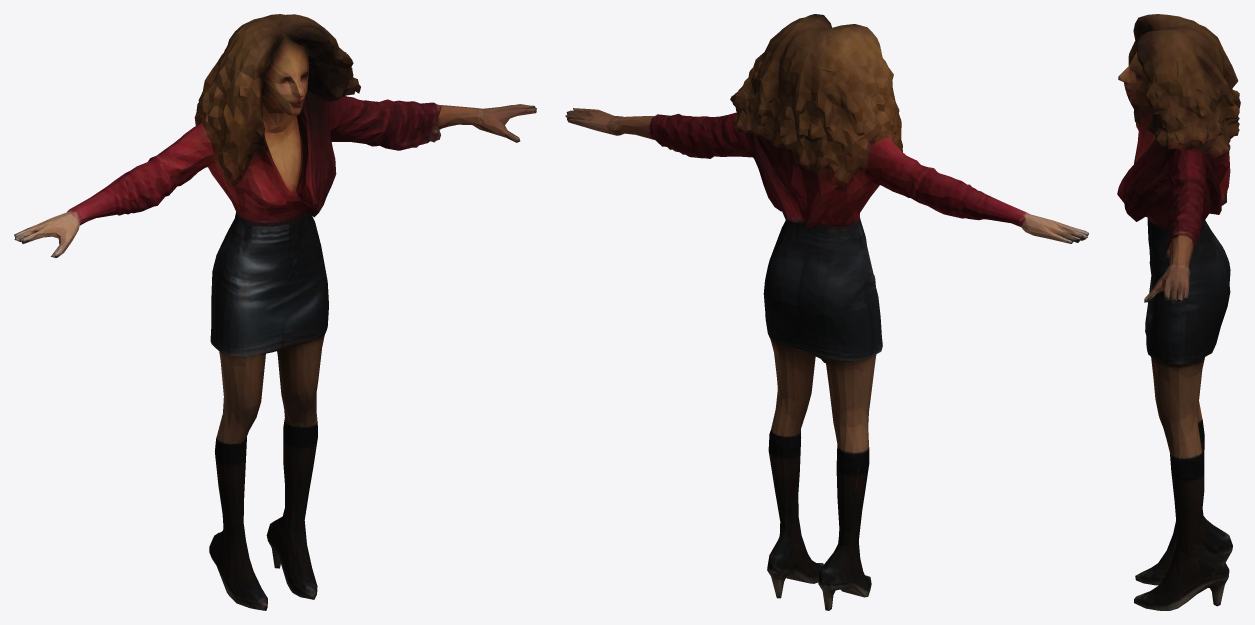
File: coureuse.glb
3 views of the same model, side by side, from view 1: azimuth 30°, elevation 25°; view 2: azimuth 150°, elevation 25°; view 3: azimuth 270°, elevation 25° (orthographic).
Visible parts, largest first — view 1: world; view 2: world; view 3: world.
Part boxes in pixels (bbox=[...]): world: bbox=[14, 14, 536, 610]; world: bbox=[565, 14, 1088, 610]; world: bbox=[1117, 14, 1240, 610].
Size of the model in its own units: 0.9594 by 0.9974 by 0.1958.
1 material, 1 textured.
